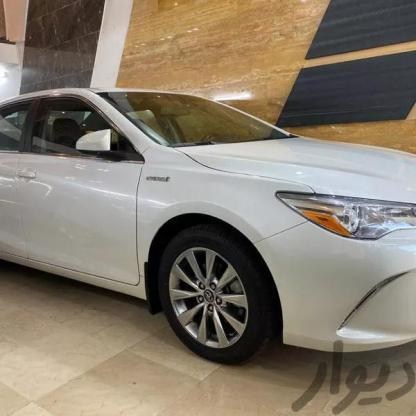Car: (0, 75, 416, 376)
